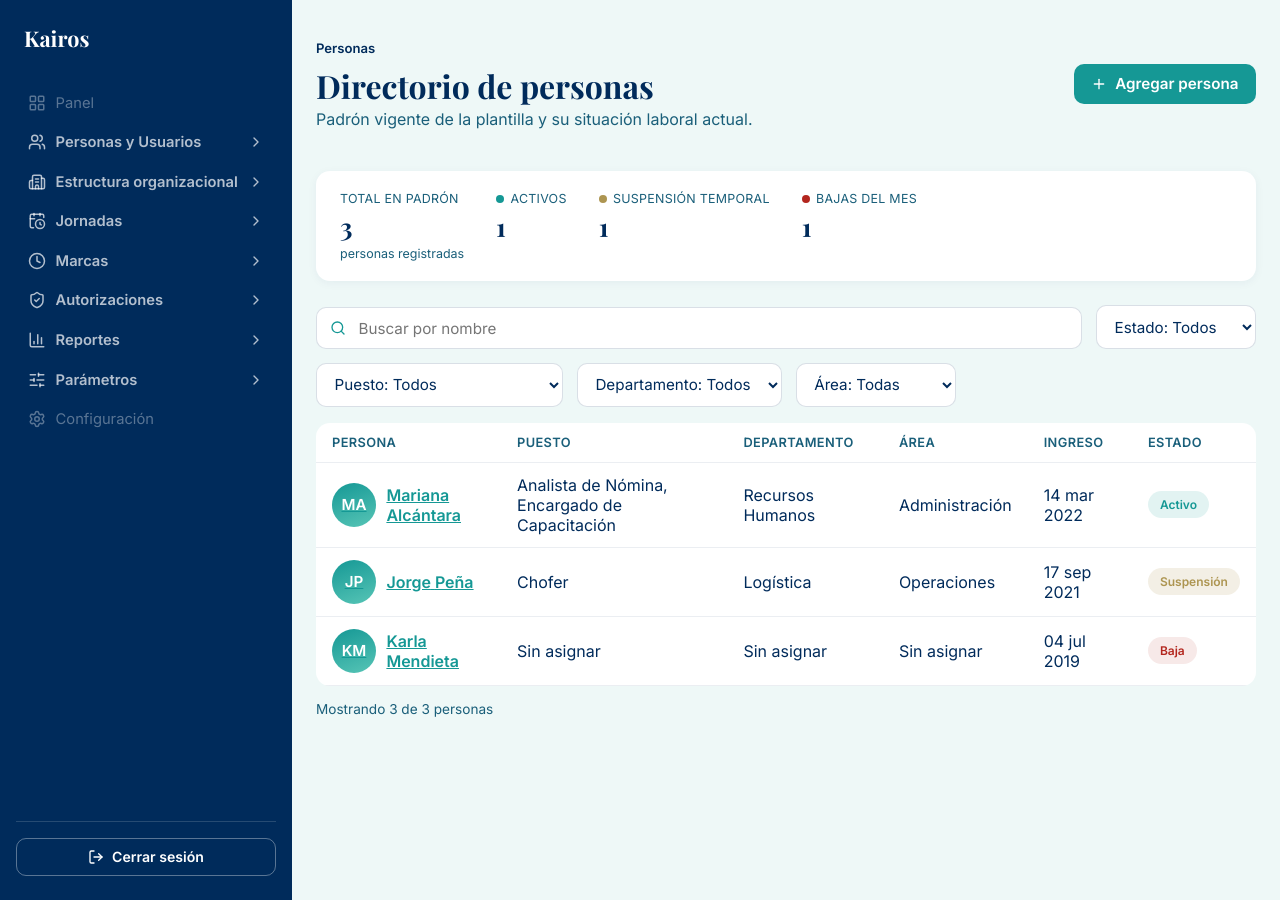
it: DirectorioPersonasPage › filtra por estado
Expected: the link "MA Mariana Alcántara" is shown, top-left (332, 482), bottom-right (461, 526)
Select "Suspensión" in the dropdown named "filtrar por estado". click: {"x": 1176, "y": 327}
box: top-left (1096, 305), bottom-right (1256, 349)
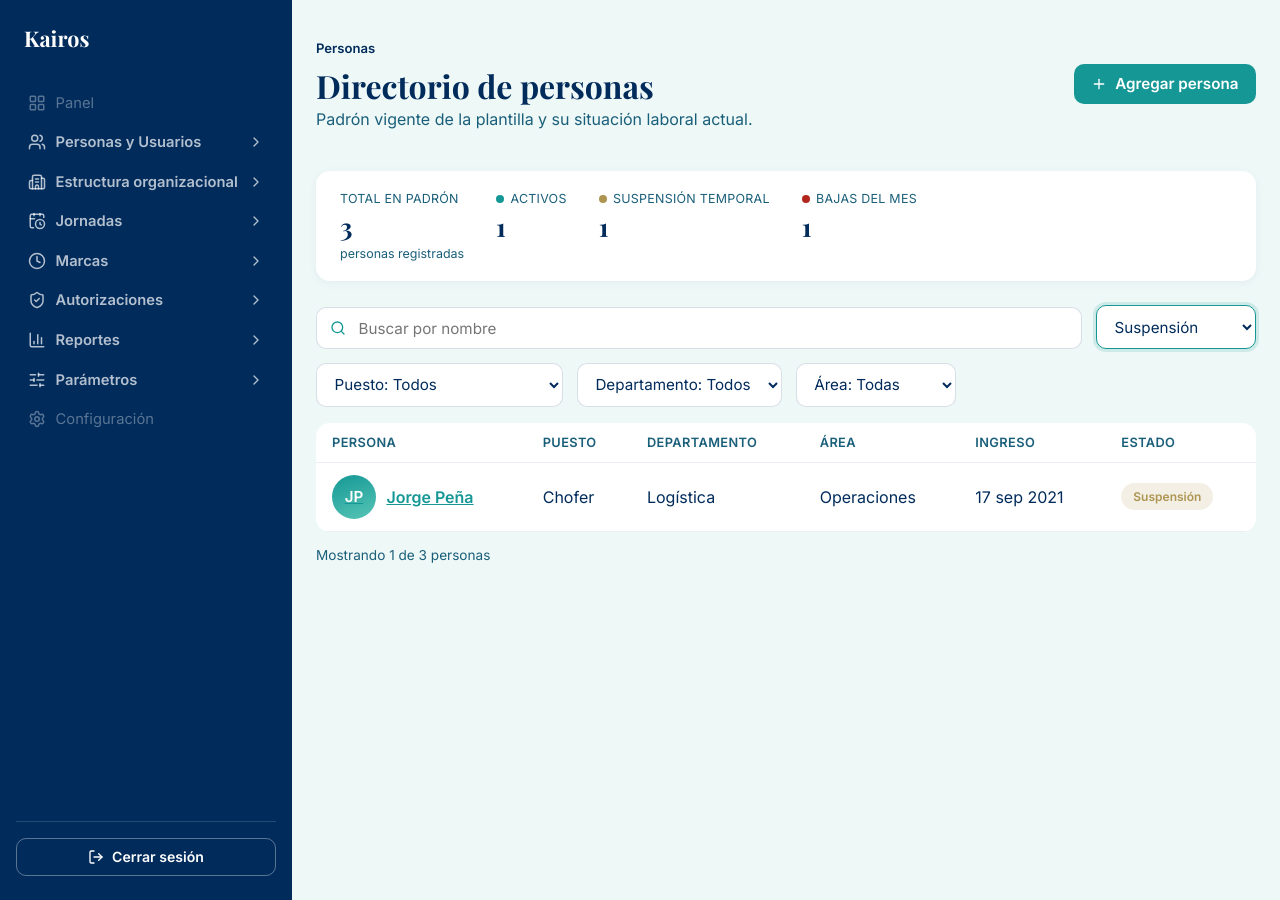
Expected: the link "Jorge Peña" is shown, top-left (332, 474), bottom-right (474, 518)
Expected: the link "Mariana Alcántara" is gone
